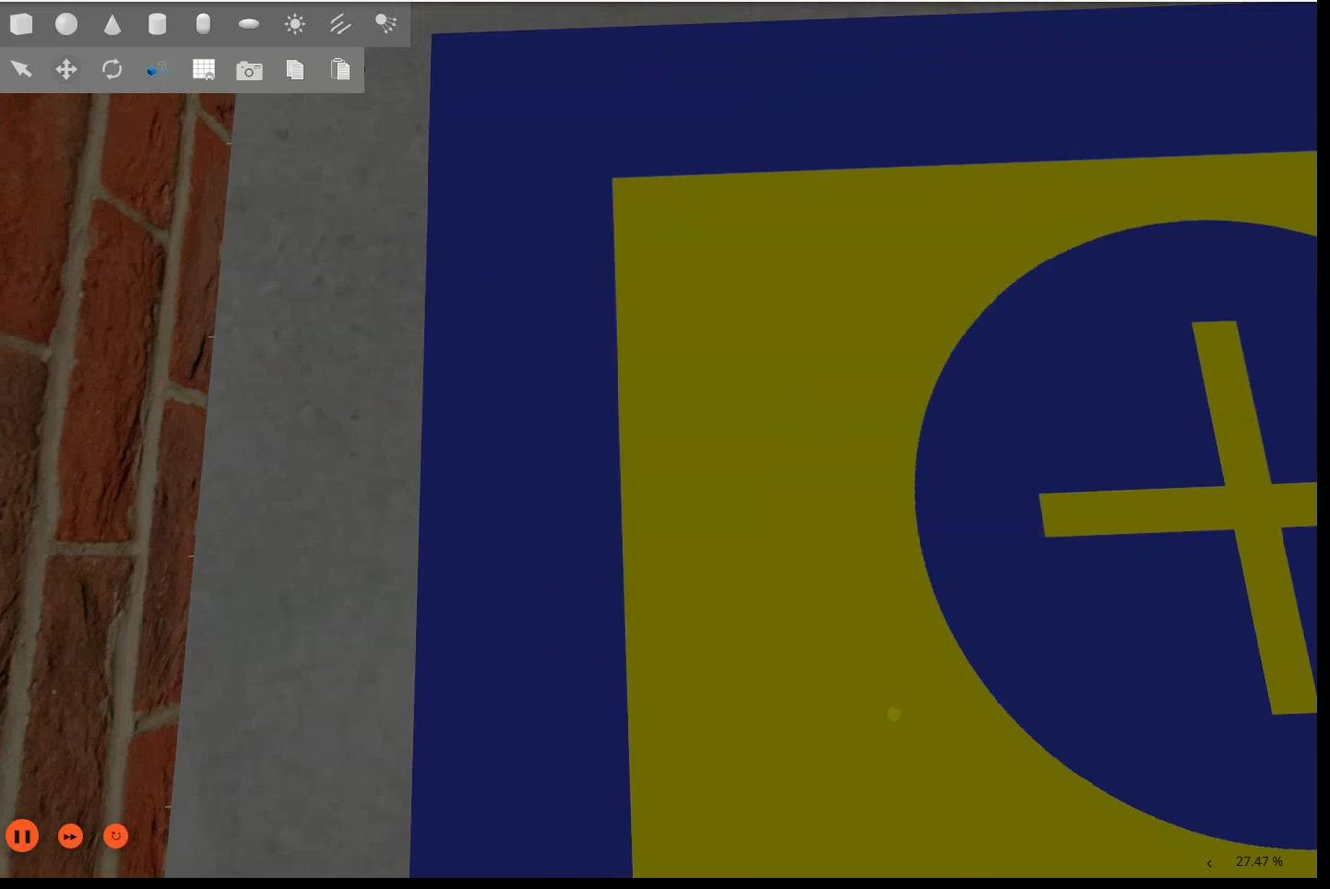large_base: (432, 3, 1322, 880)
